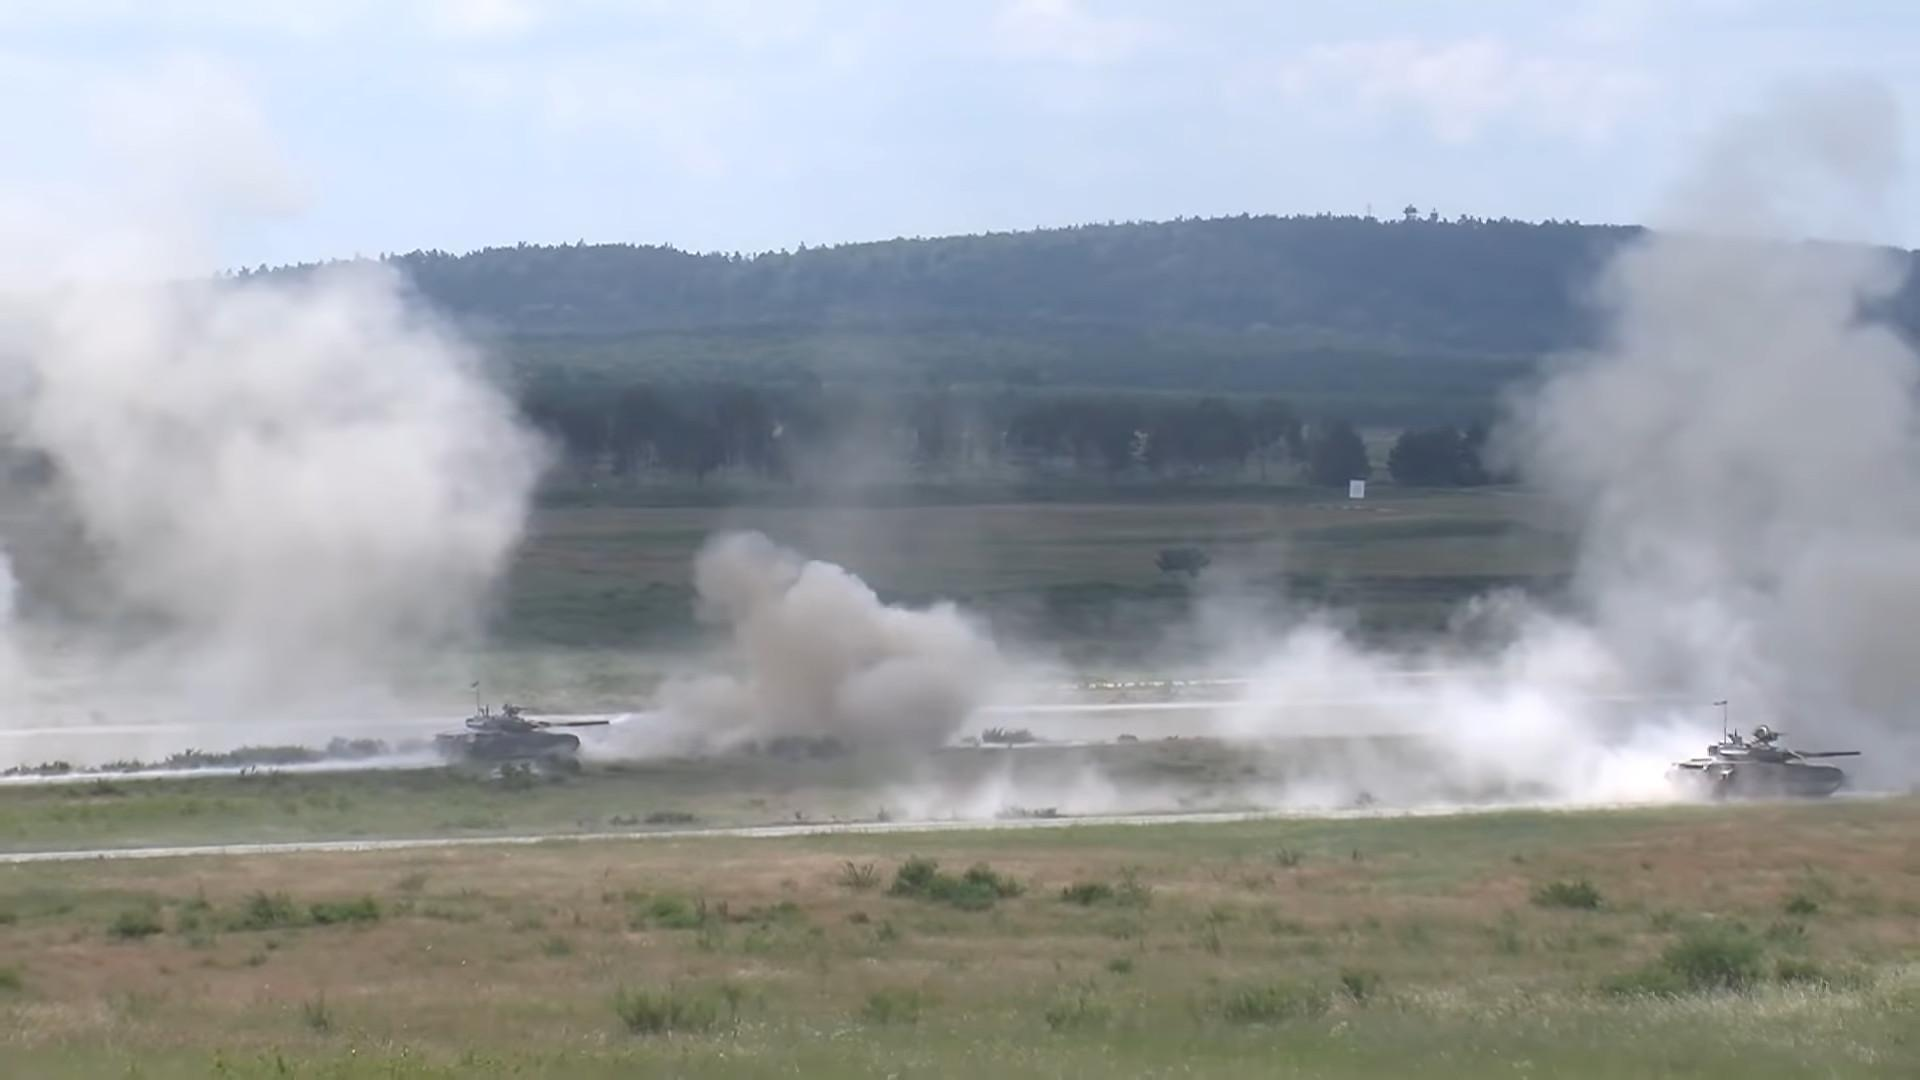tank: (1676, 723, 1859, 799), (433, 705, 609, 756)
